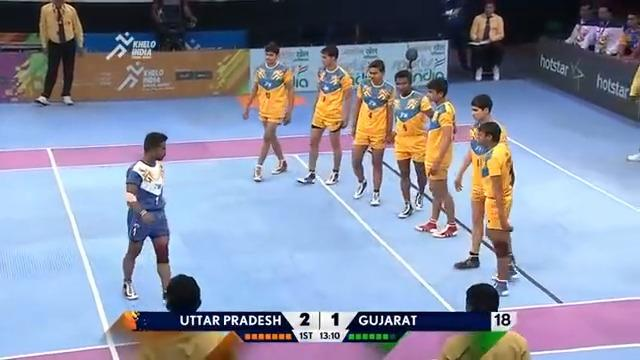Player: (472, 124, 529, 269), (240, 40, 298, 182), (297, 43, 353, 186), (349, 57, 396, 206), (422, 83, 457, 230), (467, 103, 500, 250), (391, 72, 422, 184)
Raider: (119, 129, 175, 303)
referee: (436, 282, 531, 359), (33, 0, 84, 105), (468, 1, 505, 81)
